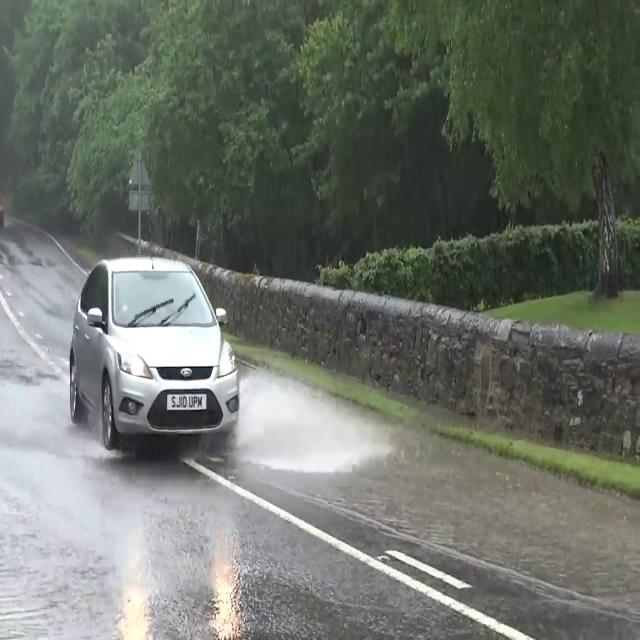license-plate-annotation: (165, 386, 206, 414)
